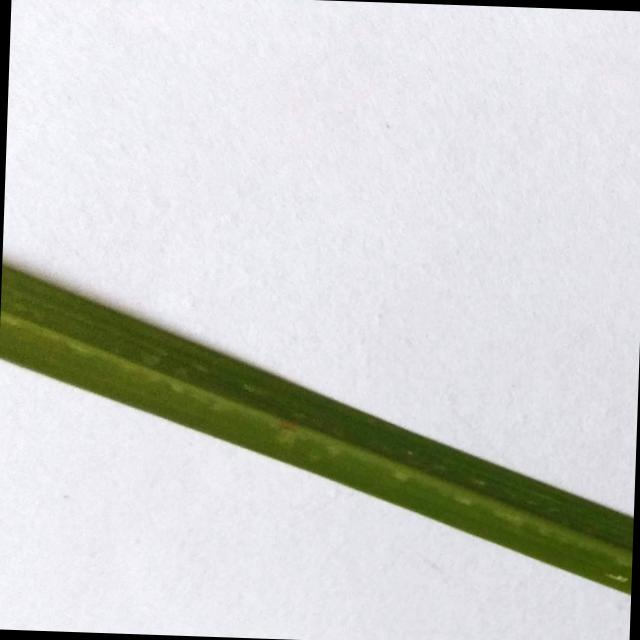Rice_Healthy: (0, 261, 633, 593)
